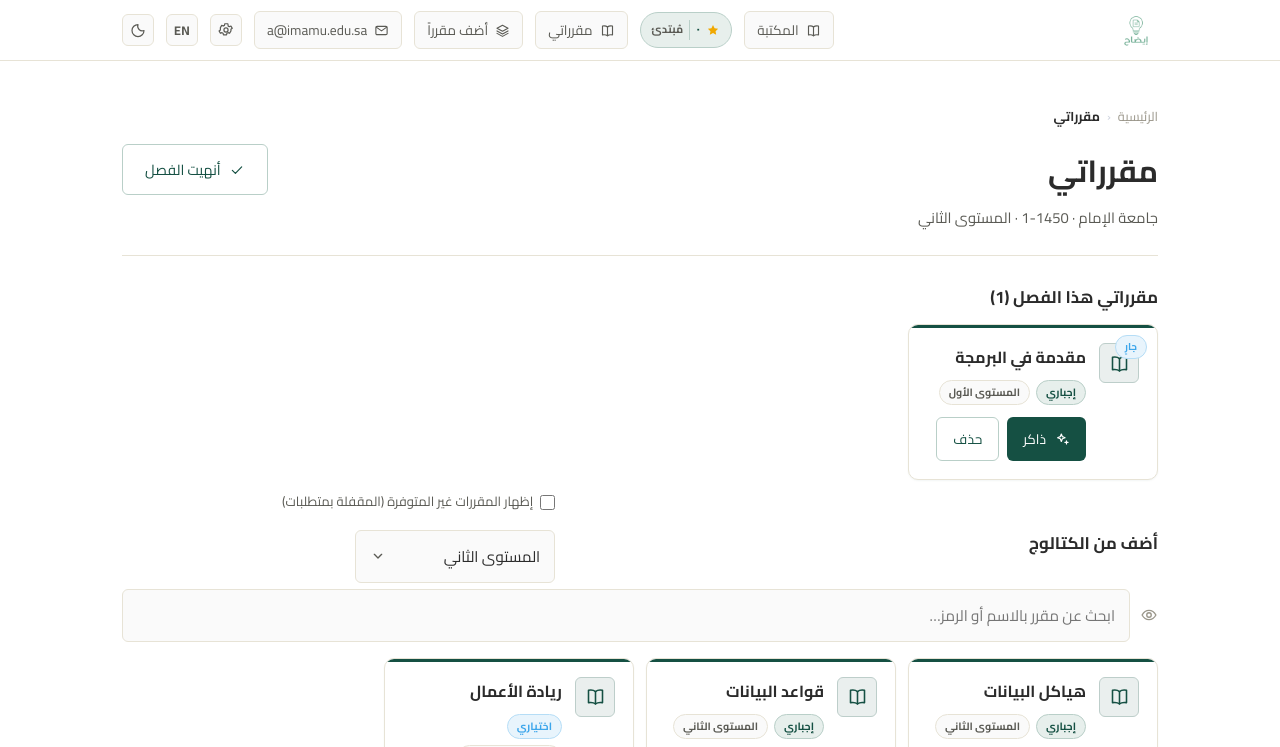
Test: «إظهار غير المتوفرة» يكشف المقفلة (لا يرتبط بالمستوى)
The image size is (1280, 747).
Expected: the heading "هياكل البيانات" is shown, x1=984 y1=676 x2=1086 y2=706
Click the checkbox labelled "إظهار المقررات غير المتوفرة (المقفلة بمتطلبات)". click: (548, 502)
box: x1=540 y1=495 x2=555 y2=510
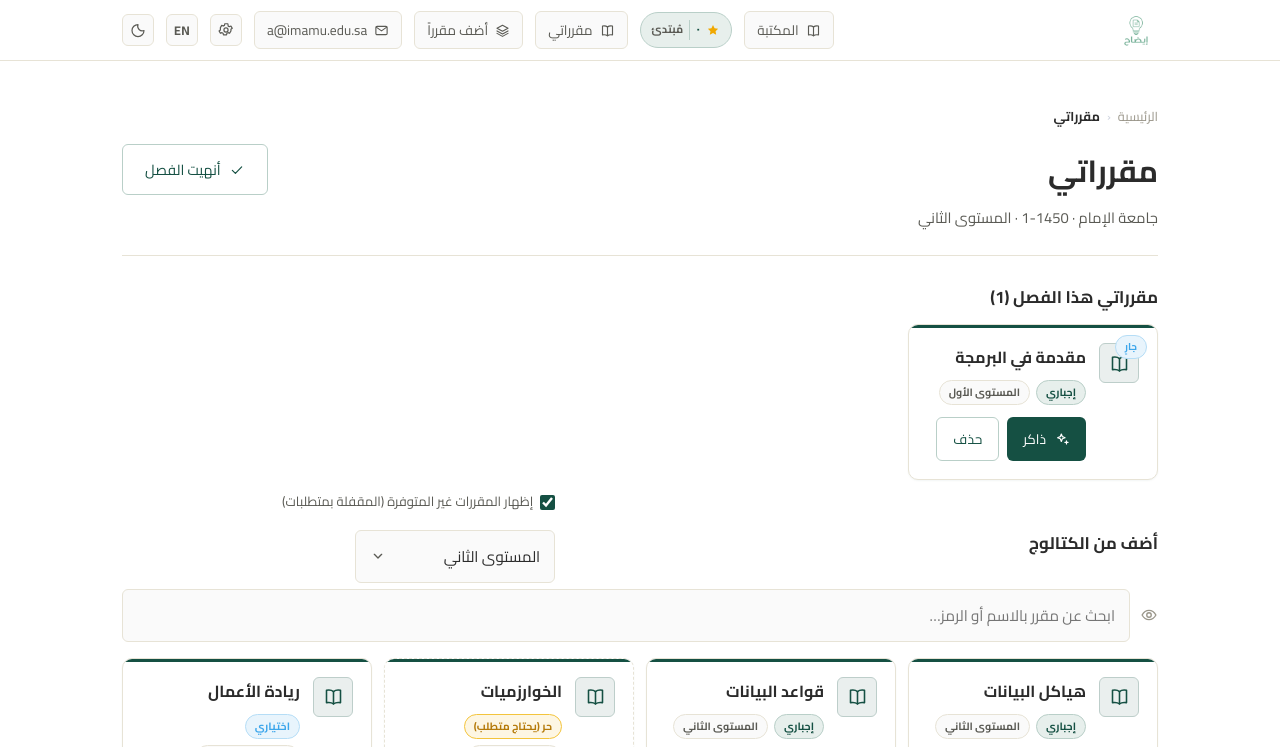
Now the heading "الخوارزميات" is shown, box x1=481 y1=676 x2=562 y2=706
